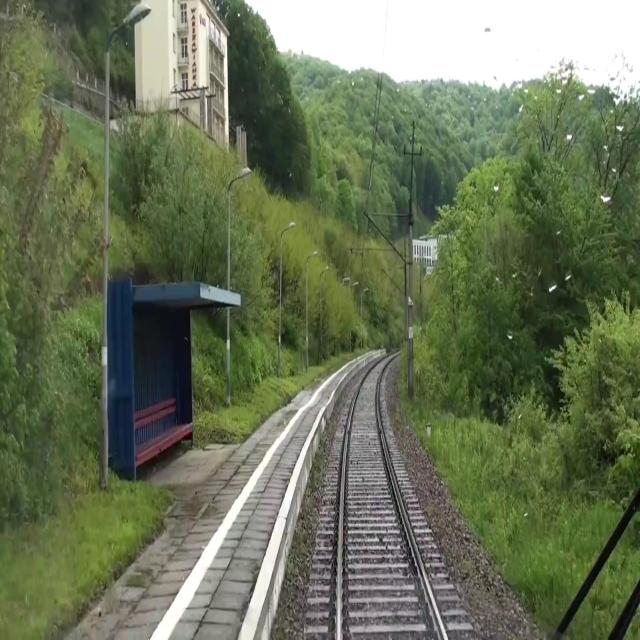rail-track: (342, 358, 443, 639)
